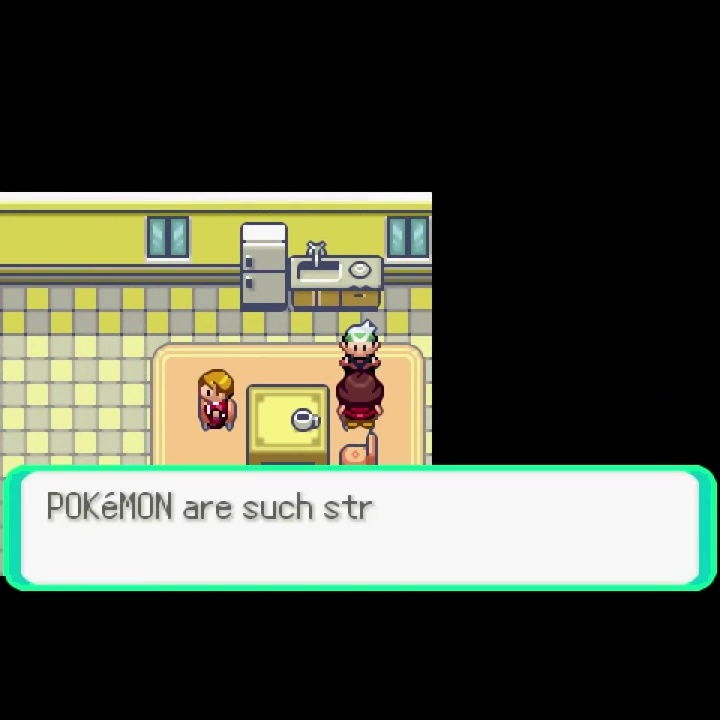npc: (332, 368, 386, 433), (195, 366, 239, 435), (338, 318, 383, 377)
